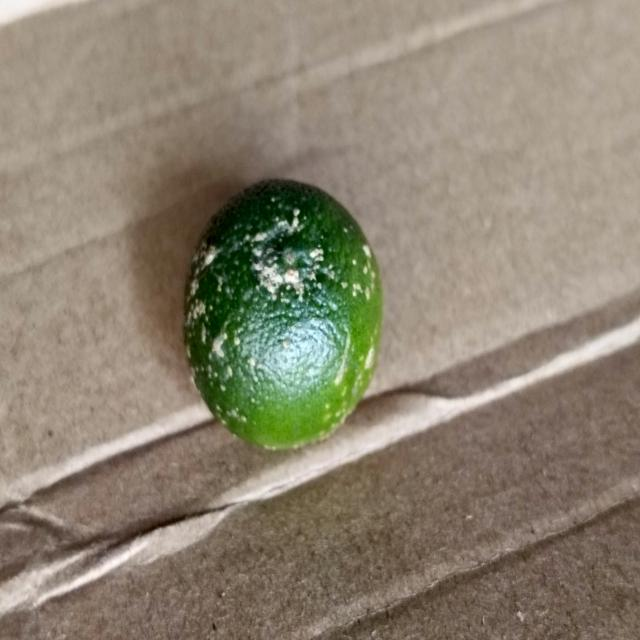scab: (178, 180, 379, 454)
